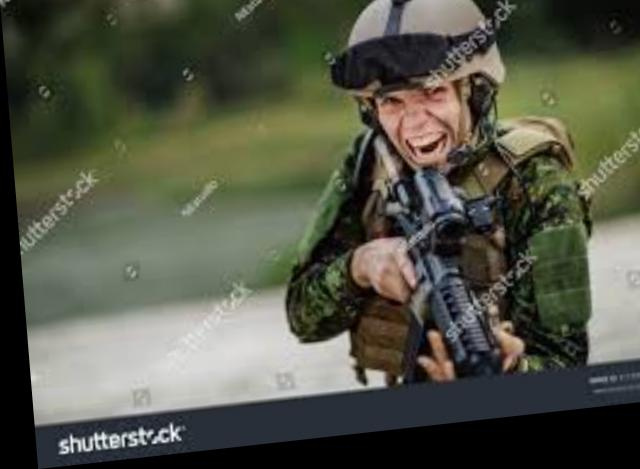other: (260, 0, 584, 395)
